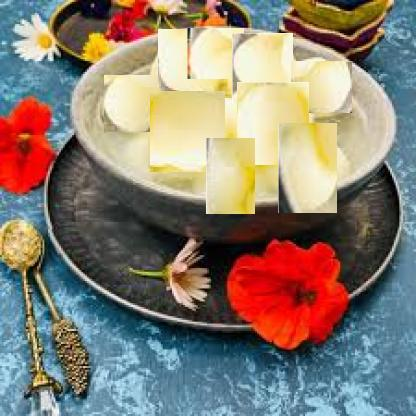rasgulla: (149, 90, 225, 172), (235, 85, 312, 163), (271, 131, 345, 206), (230, 36, 295, 101), (200, 145, 262, 208), (155, 31, 217, 93), (292, 59, 350, 115), (104, 75, 160, 131), (189, 26, 244, 81)
